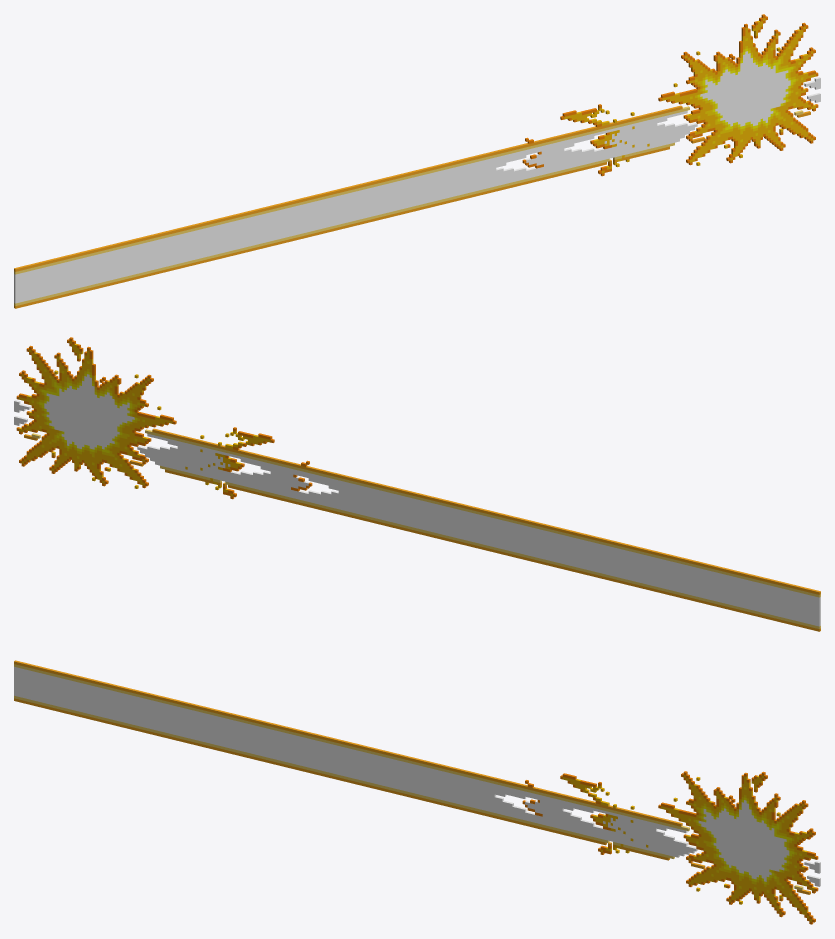
File: Fight_749_2_29_fx.obj
3 views of the same model, one above another, from view 1: azimuth 30°, elevation 25°; view 2: azimuth 150°, elevation 25°; view 3: azimuth 330°, elevation 25° (orthographic).
Size of the model in its own units: 32 by 5.3 by 0.1.
1 material, 1 textured.
